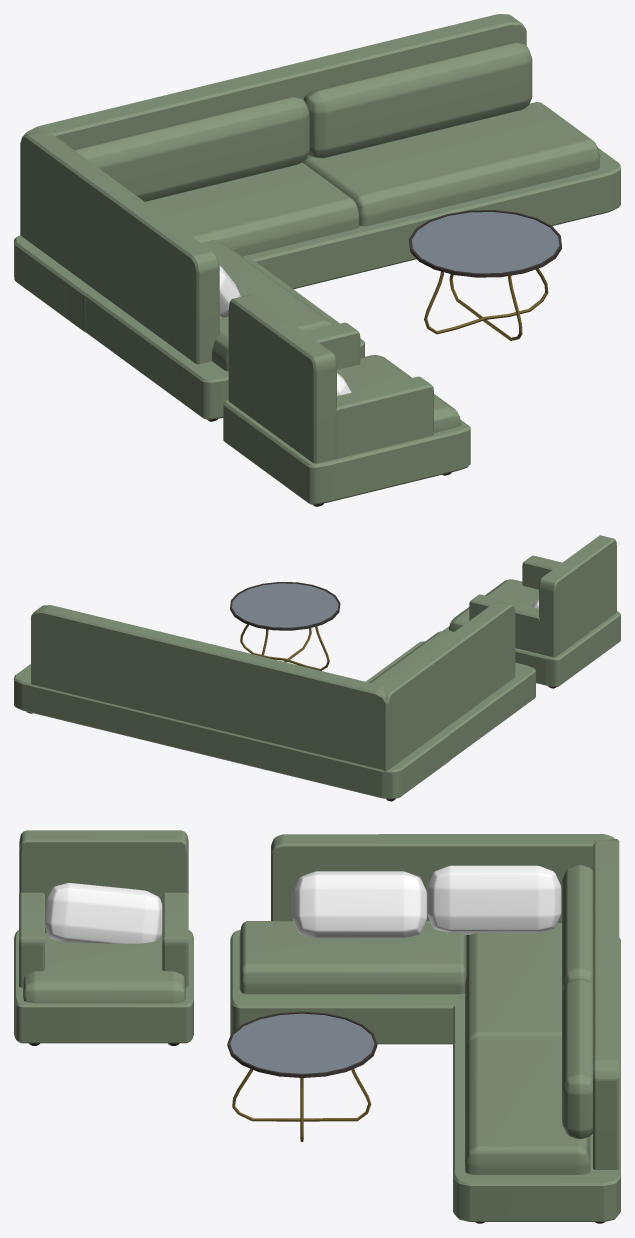
File: couch.glb
3 renders of one model, top to bottom at view 1: azimuth 30°, elevation 25°; view 2: azimuth 150°, elevation 25°; view 3: azimuth 270°, elevation 25°, orthographic. The views are drawn at different scales.
Parts seen in each view (by area): view 1: S_Couch_M_Chair_0, S_CoffeeTable_M_CoffeeTable_Top_0, S_CoffeeTable_M_CoffeeTable_Feet_0, S_CoffeeTable_M_Table_0, S_Couch_M_Pillow_0; view 2: S_Couch_M_Chair_0, S_CoffeeTable_M_CoffeeTable_Top_0, S_CoffeeTable_M_Table_0, S_CoffeeTable_M_CoffeeTable_Feet_0; view 3: S_Couch_M_Chair_0, S_Couch_M_Pillow_0, S_CoffeeTable_M_CoffeeTable_Top_0, S_CoffeeTable_M_Table_0, S_CoffeeTable_M_CoffeeTable_Feet_0.
Part boxes in pixels (<box>): S_Couch_M_Chair_0: <box>14,14,620,504</box>; S_CoffeeTable_M_CoffeeTable_Top_0: <box>412,212,559,273</box>; S_CoffeeTable_M_CoffeeTable_Feet_0: <box>424,268,548,340</box>; S_CoffeeTable_M_Table_0: <box>409,210,561,277</box>; S_Couch_M_Pillow_0: <box>219,265,351,396</box>; S_Couch_M_Chair_0: <box>14,535,620,799</box>; S_CoffeeTable_M_CoffeeTable_Top_0: <box>232,583,338,627</box>; S_CoffeeTable_M_Table_0: <box>230,582,340,630</box>; S_CoffeeTable_M_CoffeeTable_Feet_0: <box>240,624,329,670</box>; S_Couch_M_Chair_0: <box>14,830,620,1221</box>; S_Couch_M_Pillow_0: <box>45,865,561,943</box>; S_CoffeeTable_M_CoffeeTable_Top_0: <box>230,1013,374,1073</box>; S_CoffeeTable_M_Table_0: <box>227,1011,377,1077</box>; S_CoffeeTable_M_CoffeeTable_Feet_0: <box>232,1069,371,1142</box>.
Size of the model in its own units: 5.2 by 1.43 by 5.17.
